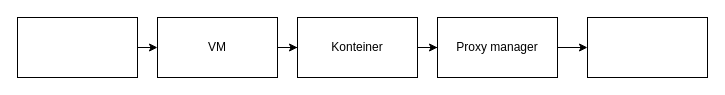
This 725x95 diagram has some shape labels left out. The shapes that lost their labels are listed below. From the top down, each one's box as (x1, y1, x2, y2) in pixels, then its label:
(16, 16, 138, 78): klient
(586, 16, 708, 78): web
